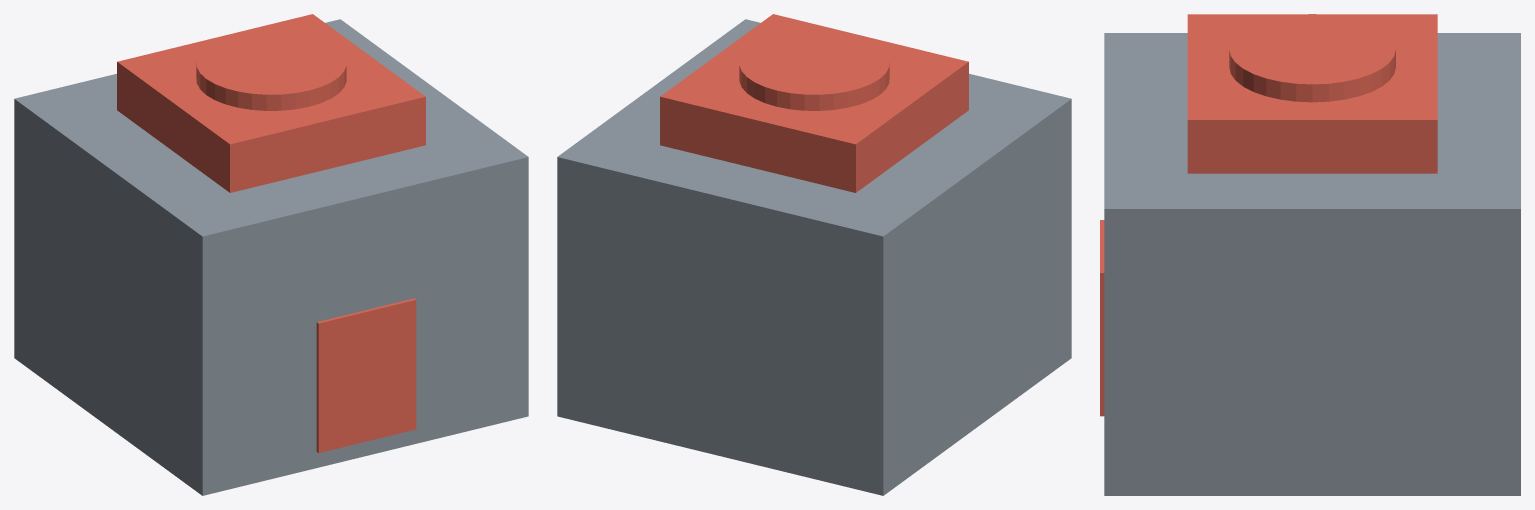
Rendered from SM_Soviet_SU_SuperweaponSilo_Blockout.fbx.
The picture shows the model from 3 angles, left to right: view 1: azimuth 30°, elevation 25°; view 2: azimuth 150°, elevation 25°; view 3: azimuth 270°, elevation 25°; orthographic projection. The views are drawn at different scales.
Parts seen in each view (by area): view 1: MainBuilding, RoofStructure, EntranceGate, Spire; view 2: MainBuilding, RoofStructure, Spire; view 3: MainBuilding, RoofStructure, Spire, EntranceGate.
Part boxes in pixels (box(x1,y1,x2,y2)): MainBuilding: box(14, 19, 528, 495); RoofStructure: box(117, 14, 425, 192); EntranceGate: box(316, 298, 416, 453); Spire: box(196, 31, 346, 110); MainBuilding: box(557, 19, 1071, 495); RoofStructure: box(660, 14, 968, 192); Spire: box(739, 31, 889, 110); MainBuilding: box(1104, 33, 1520, 495); RoofStructure: box(1187, 14, 1437, 173); Spire: box(1229, 14, 1395, 102); EntranceGate: box(1100, 220, 1104, 416).
Size of the model in its own units: 1000 by 950 by 1010.
